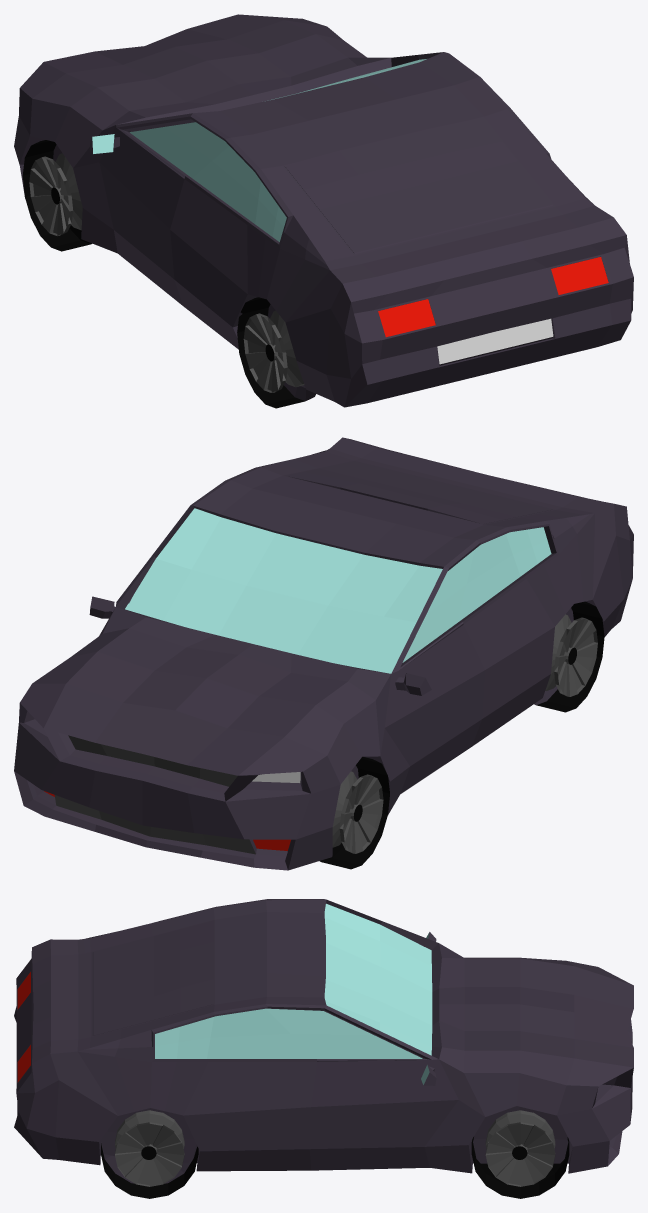
Rendered from lowpolycar_object.fbx.
3 renders of one model, top to bottom at view 1: azimuth 30°, elevation 25°; view 2: azimuth 150°, elevation 25°; view 3: azimuth 270°, elevation 25°, orthographic. The views are drawn at different scales.
Visible parts, largest first — view 1: Cube; view 2: Cube; view 3: Cube.
Part boxes in pixels (box(x1,y1,x2,y2)): Cube: box(14, 14, 633, 408); Cube: box(14, 437, 633, 870); Cube: box(14, 899, 633, 1198).
Bounding box in the file's own units: 240 × 142 × 440.
